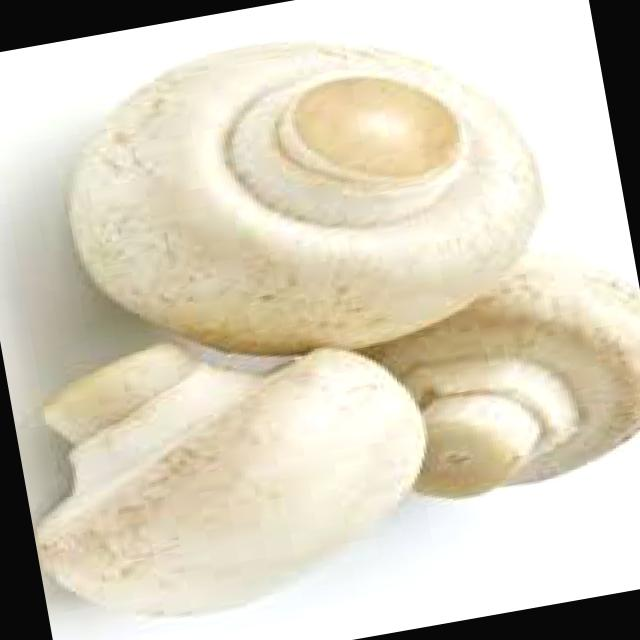Agaricus bisporus: (47, 2, 567, 391), (10, 300, 446, 640), (377, 230, 640, 525)
